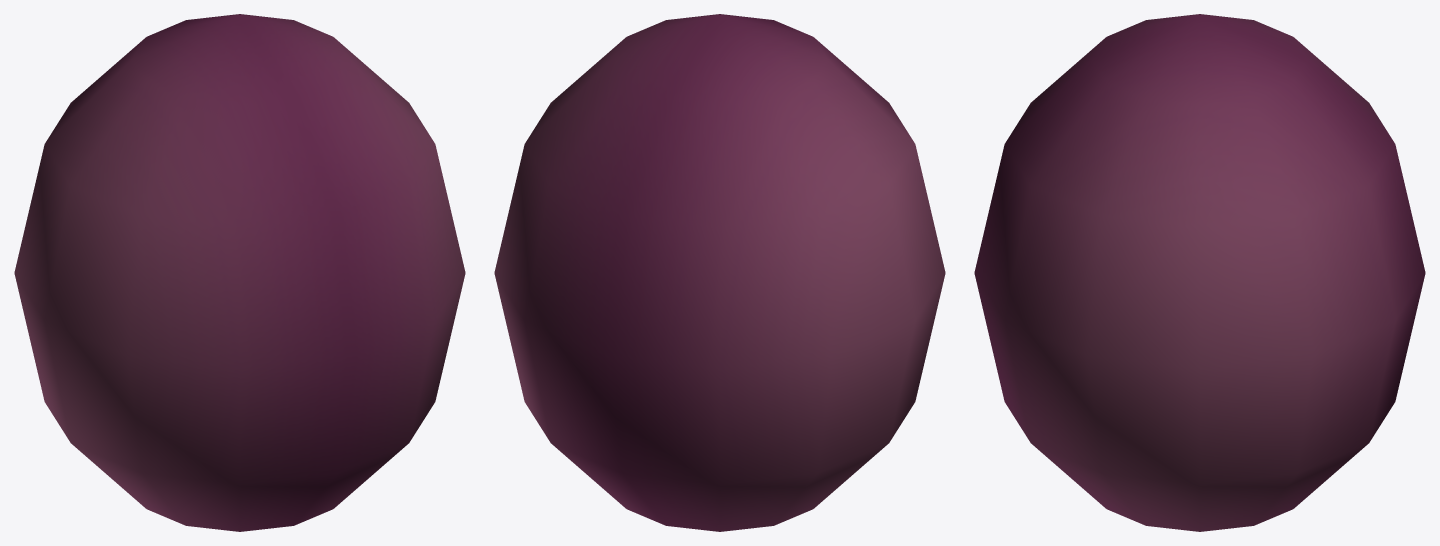
File: Peach_pit.glb
3 views of the same model, side by side, from view 1: azimuth 30°, elevation 25°; view 2: azimuth 150°, elevation 25°; view 3: azimuth 270°, elevation 25° (orthographic).
Visible parts, largest first — view 1: geometry_0; view 2: geometry_0; view 3: geometry_0.
Boxes of the visible parts, bbox=[...] form: geometry_0: bbox=[14, 14, 465, 531]; geometry_0: bbox=[494, 14, 945, 531]; geometry_0: bbox=[974, 14, 1425, 531].
Size of the model in its own units: 0.1232 by 0.1553 by 0.1232.
1 material, 1 textured.
